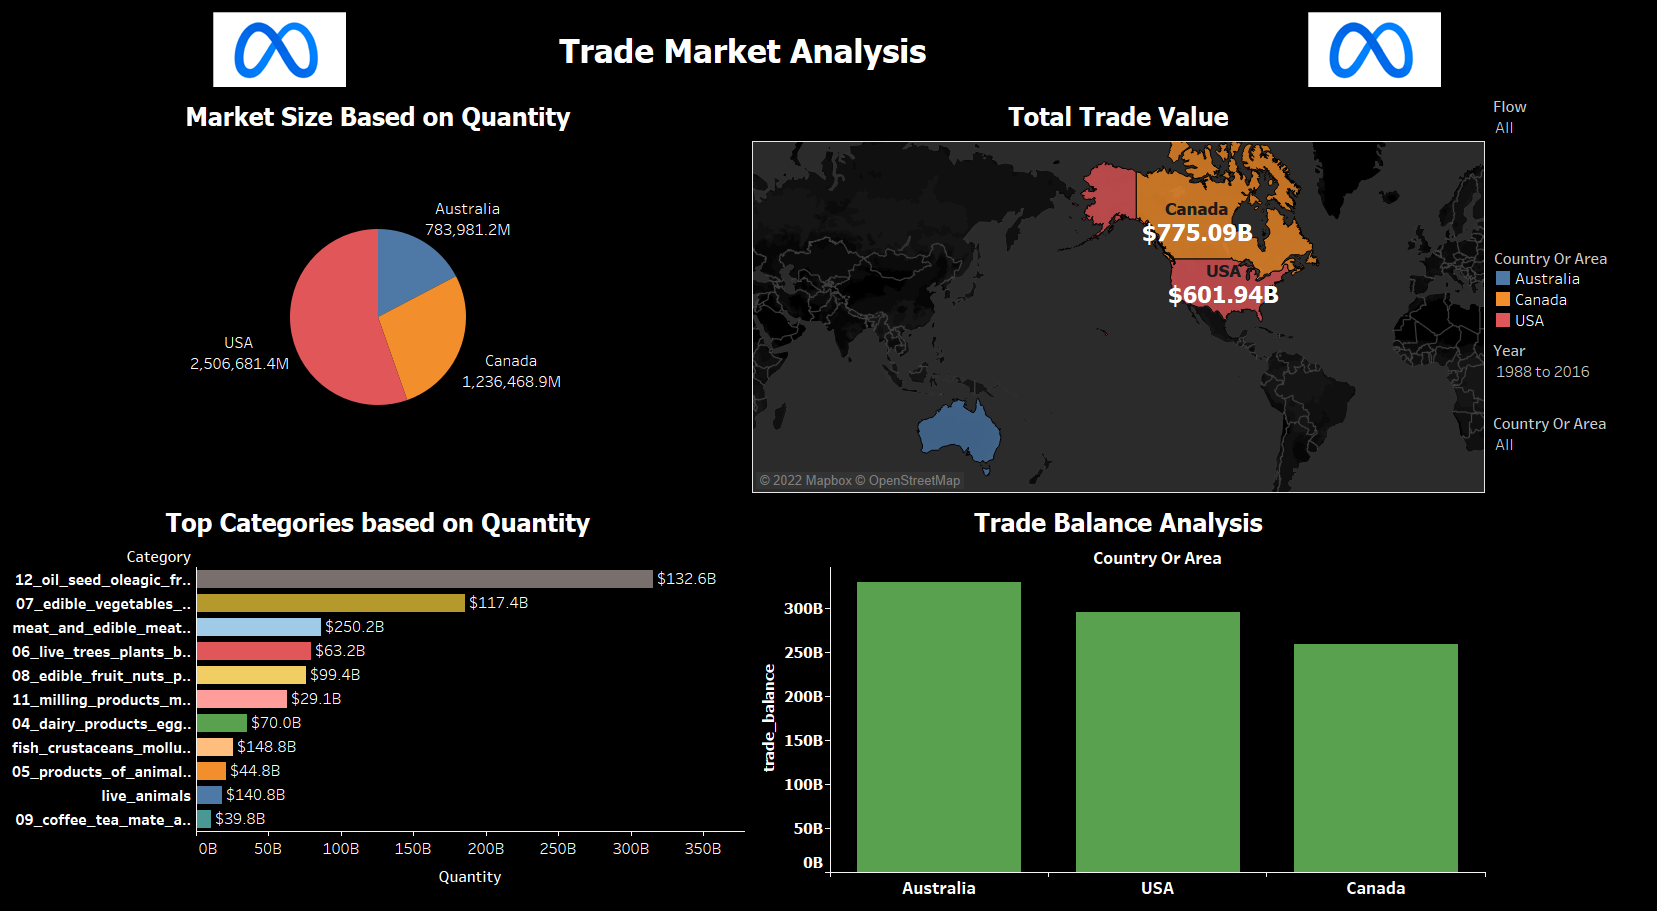

What the dashboard file says about the page in this screenshot:
{"tool":"tableau","page":{"name":"Trade Market Part 1","canvas":[1000,1000],"units":"permille","ordinal":0},"visuals":[{"type":"image","param":"C:/Users/DELL/Pictures/Images/images (7).png","box":[4.8,8.8,328.4,91.1]},{"type":"text","box":[333.3,8.8,330.9,91.1]},{"type":"image","param":"C:/Users/DELL/Pictures/Images/images (7).png","box":[664.2,8.8,330.9,91.1]},{"type":"worksheet","title":"Market Size","mark":"Pie","box":[4.8,99.9,446.8,445.7]},{"type":"worksheet","title":"Total Trade Value","mark":"Multipolygon","box":[451.7,99.9,446.9,445.7]},{"type":"filter","title":"Market Size","param":"[federated.03yl7uw0nyzdh11aq3x7612zjl2o].[none:flow:nk]","box":[898.6,99.9,96.6,165.8]},{"type":"legend","title":"Market Size","param":"[federated.03yl7uw0nyzdh11aq3x7612zjl2o].[none:country_or_area:nk]","box":[898.6,265.6,96.6,102.1]},{"type":"filter","title":"Total Trade Value","param":"[federated.03yl7uw0nyzdh11aq3x7612zjl2o].[none:year:qk]","box":[898.6,367.7,96.6,80.1]},{"type":"filter","title":"Total Trade Value","param":"[federated.03yl7uw0nyzdh11aq3x7612zjl2o].[none:country_or_area:nk]","box":[898.6,447.9,96.6,67]},{"type":"worksheet","title":"Top Categories","mark":"Automatic","rows":["category"],"cols":["quantity"],"box":[4.8,545.6,446.8,445.7]},{"type":"worksheet","title":"Trade Balance Analysis","mark":"Automatic","rows":["Calculation_1259600524750307331"],"cols":["country_or_area"],"box":[451.7,545.6,446.9,445.7]}]}

Visuals, with their boxes on the dashboard's canvas, which has no fixed pixel size, in thousandths of its width and height (x1, y1, x2, y2). These are canvas units, not pixel positions in the 1657x911 screenshot, which may show the page scaled, cropped or inside an application window:
image: bbox=[5, 9, 333, 100]
text: bbox=[333, 9, 664, 100]
image: bbox=[664, 9, 995, 100]
"Market Size" worksheet (Pie marks): bbox=[5, 100, 452, 546]
"Total Trade Value" worksheet (Multipolygon marks): bbox=[452, 100, 899, 546]
"Market Size" filter: bbox=[899, 100, 995, 266]
"Market Size" legend: bbox=[899, 266, 995, 368]
"Total Trade Value" filter: bbox=[899, 368, 995, 448]
"Total Trade Value" filter: bbox=[899, 448, 995, 515]
"Top Categories" worksheet: bbox=[5, 546, 452, 991]
"Trade Balance Analysis" worksheet: bbox=[452, 546, 899, 991]
